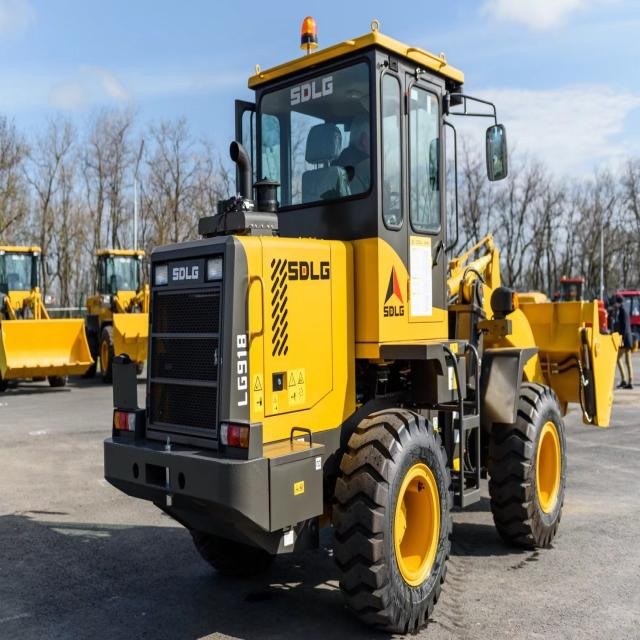buldozerpayloadergrader: (108, 16, 626, 634)
